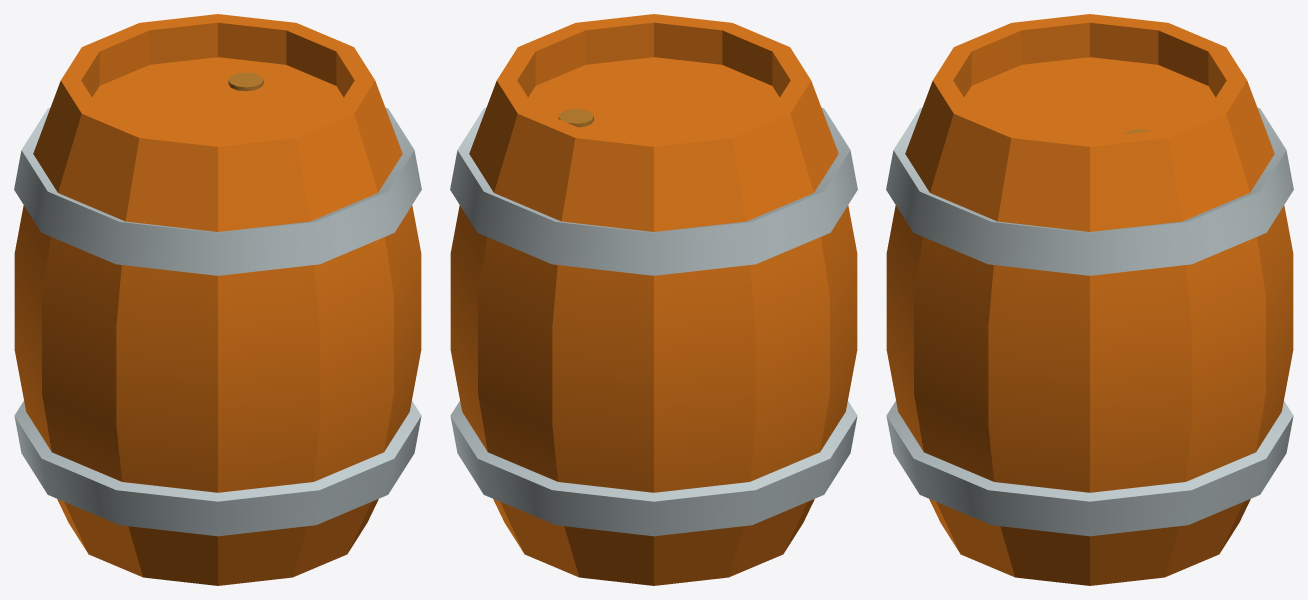
Rendered from Barrel.fbx.
The picture shows the model from 3 angles, left to right: view 1: azimuth 30°, elevation 25°; view 2: azimuth 150°, elevation 25°; view 3: azimuth 270°, elevation 25°; orthographic projection.
Visible parts, largest first — view 1: Cylinder; view 2: Cylinder; view 3: Cylinder.
Boxes of the visible parts, x1,y1,x2,y2 form: Cylinder: (14, 14, 421, 585); Cylinder: (450, 14, 857, 585); Cylinder: (886, 14, 1293, 585).
Size of the model in its own units: 246 by 294 by 246.
